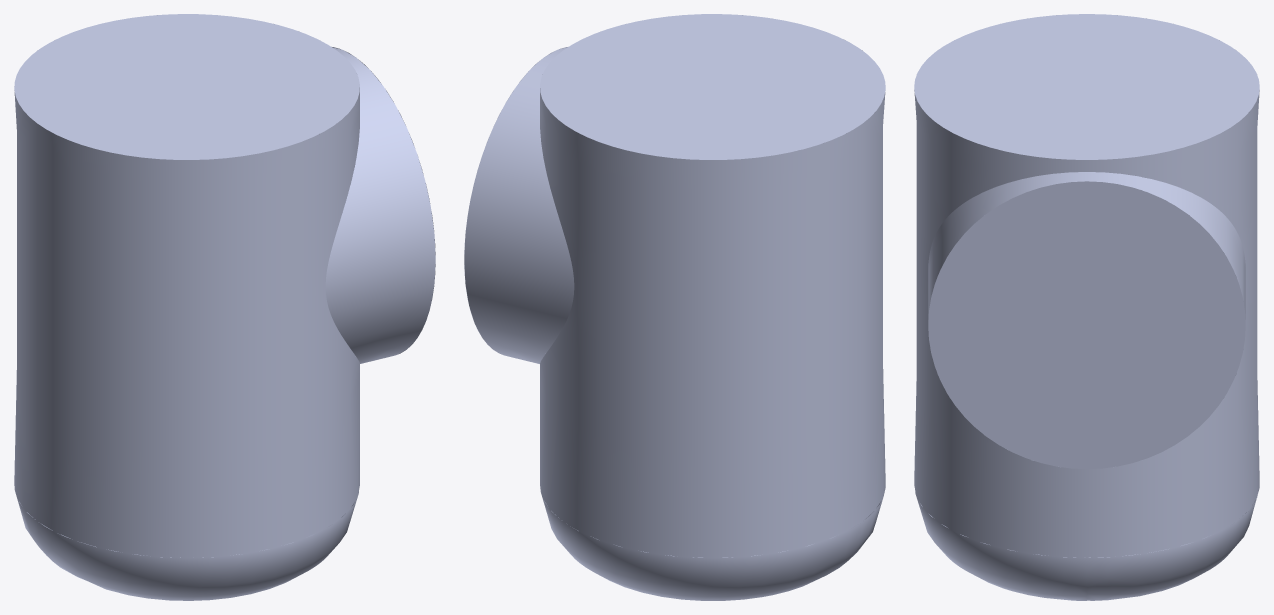
File: joint_j32.glb
The picture shows the model from 3 angles, left to right: view 1: azimuth 30°, elevation 25°; view 2: azimuth 150°, elevation 25°; view 3: azimuth 270°, elevation 25°; orthographic projection.
Visible parts, largest first — view 1: joint_j32.IGS (×6); view 2: joint_j32.IGS (×6); view 3: joint_j32.IGS (×7).
Part boxes in pixels (x1,y1,x2,y2): joint_j32.IGS (×6): [14, 14, 435, 600]; joint_j32.IGS (×6): [464, 14, 885, 600]; joint_j32.IGS (×7): [914, 14, 1259, 600].
Size of the model in its own units: 0.197 by 0.275 by 0.185.
